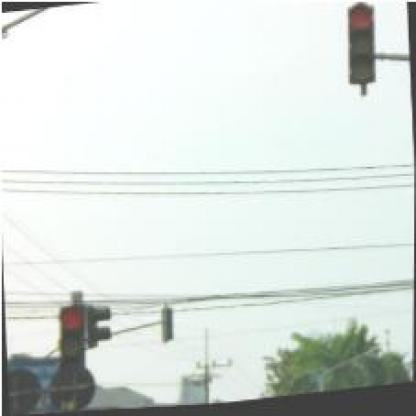red: (53, 303, 86, 386), (344, 6, 375, 89)
